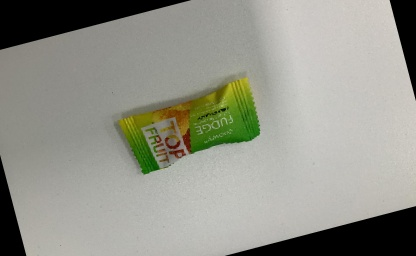jeli: (106, 72, 272, 182)
